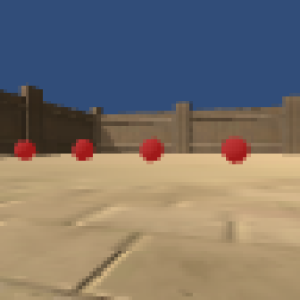badGoal: (219, 134, 252, 166), (137, 136, 166, 166), (70, 137, 96, 165), (12, 138, 36, 162)
